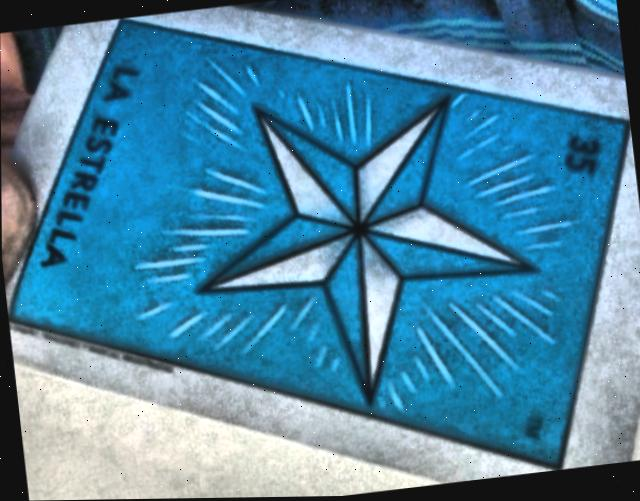La Estrella: (8, 23, 630, 470)
